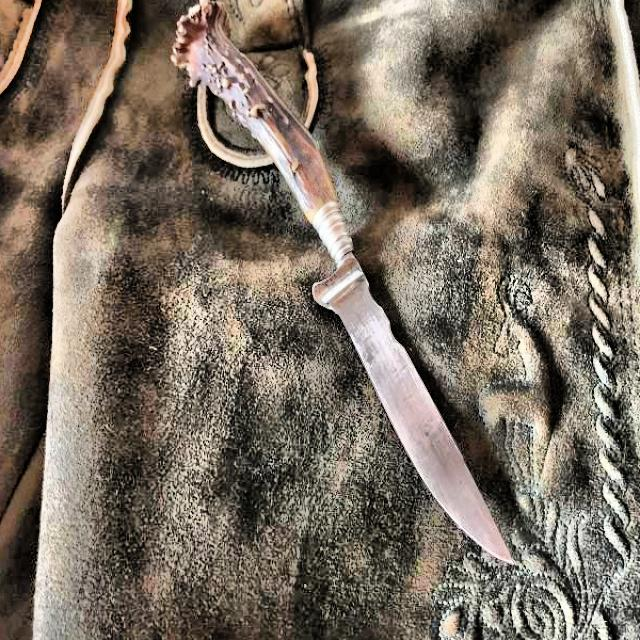knife: (171, 5, 518, 576)
